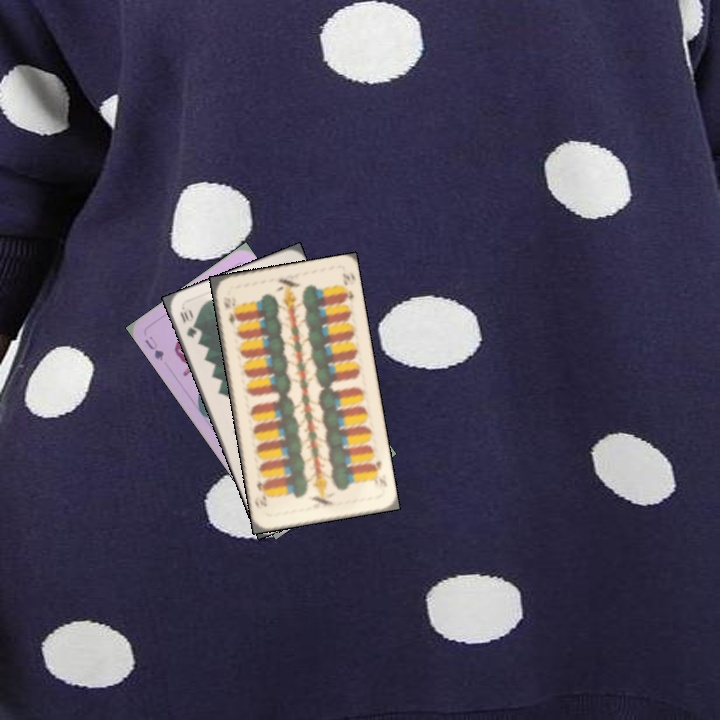E10: (367, 457, 390, 489), (220, 298, 241, 329)
G10: (176, 306, 200, 341)
GU: (141, 332, 167, 363)
